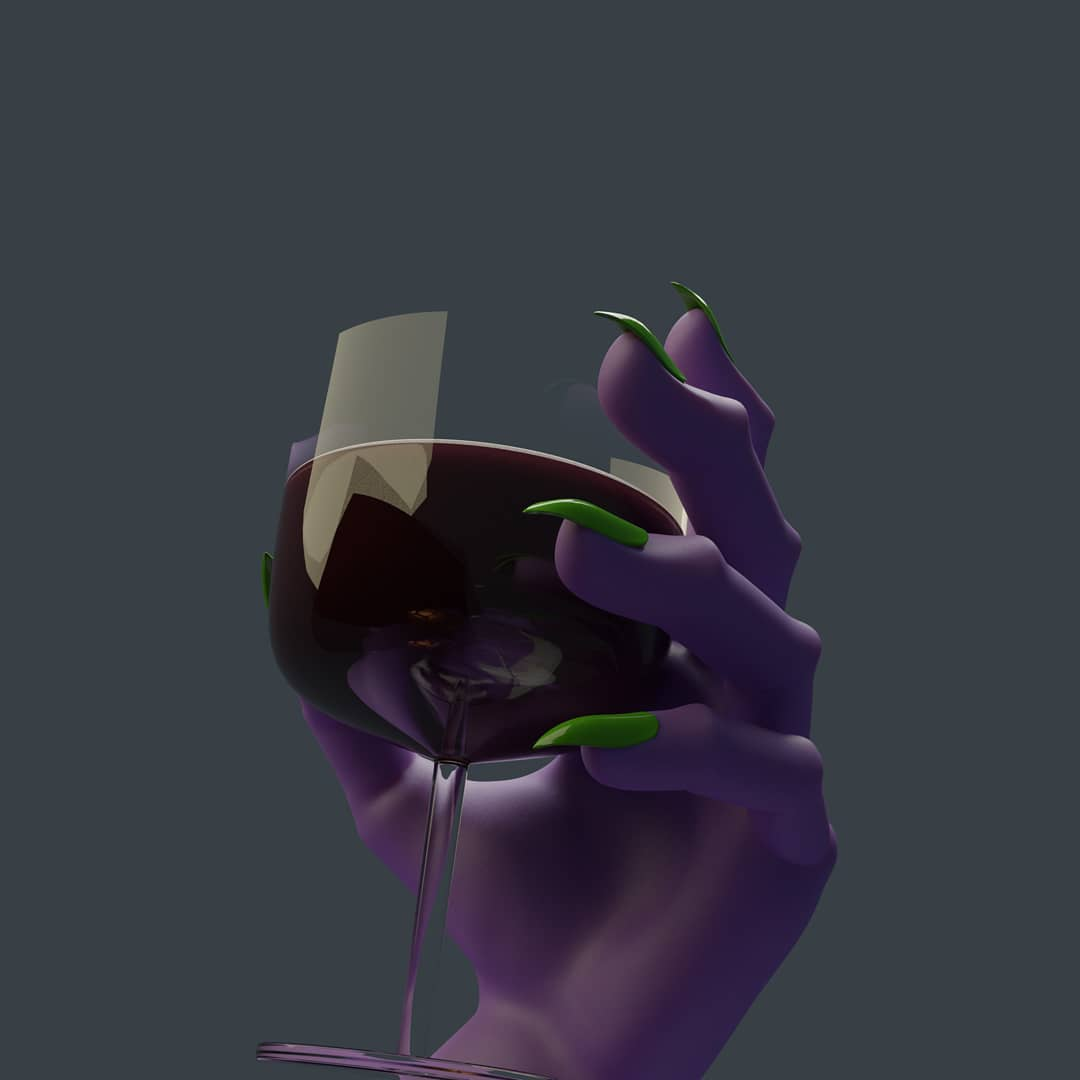hand: (291, 343, 793, 1052)
